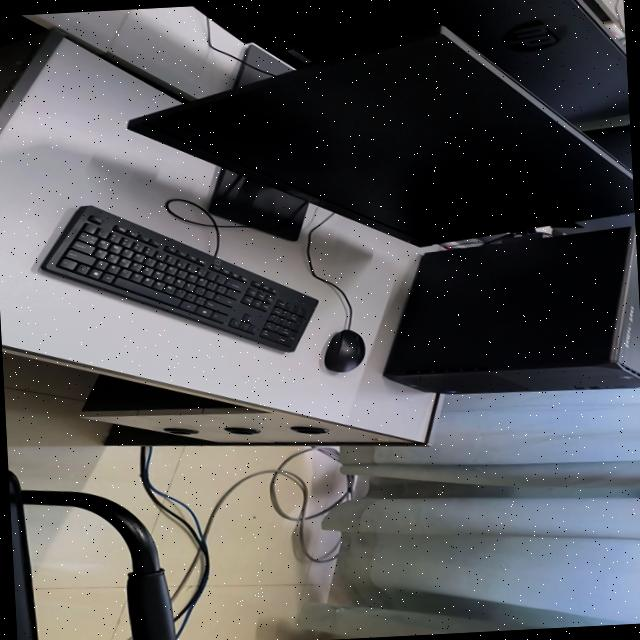Chair: (7, 471, 36, 640)
Cpu: (384, 227, 640, 394)
Keyboard: (40, 206, 317, 352)
Monitor: (129, 27, 635, 247), (193, 0, 629, 122), (588, 126, 633, 172)
Mouse: (323, 330, 364, 372)
